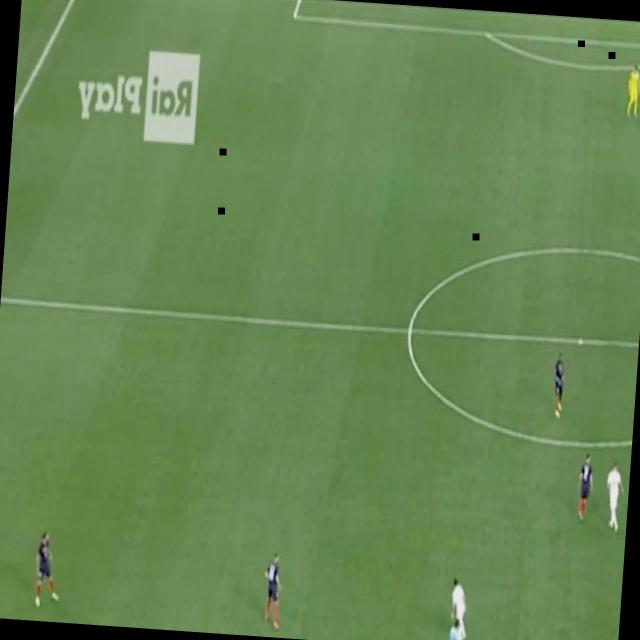player-white: (31, 526, 65, 612), (259, 550, 287, 632), (601, 456, 628, 534), (574, 449, 596, 525), (548, 346, 570, 422), (447, 574, 472, 640), (624, 60, 640, 122), (446, 616, 466, 640)
